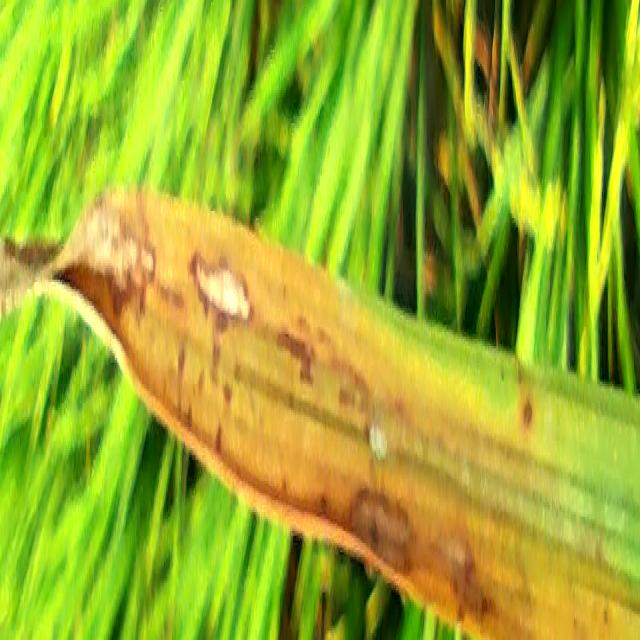LEAF BLAST: (0, 194, 156, 407), (345, 490, 419, 574), (436, 538, 499, 632), (187, 253, 254, 334), (523, 396, 532, 431)
